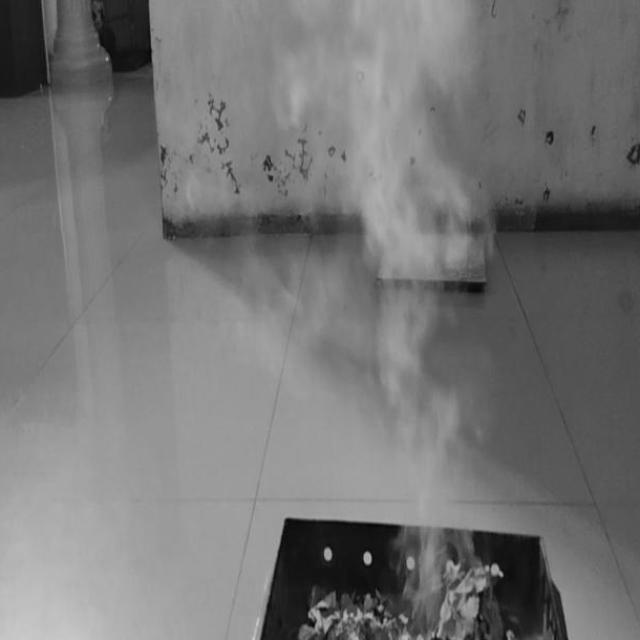fire: (342, 0, 471, 397), (391, 388, 479, 617)
